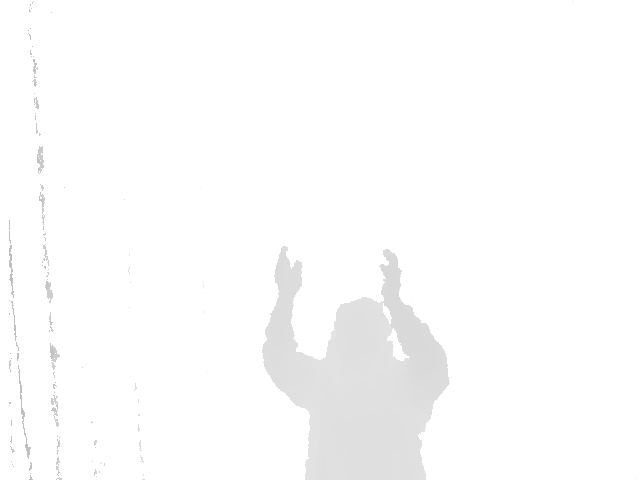hand: (376, 247, 406, 309), (270, 243, 304, 297)
head: (319, 295, 396, 361)
person: (260, 244, 451, 480)
